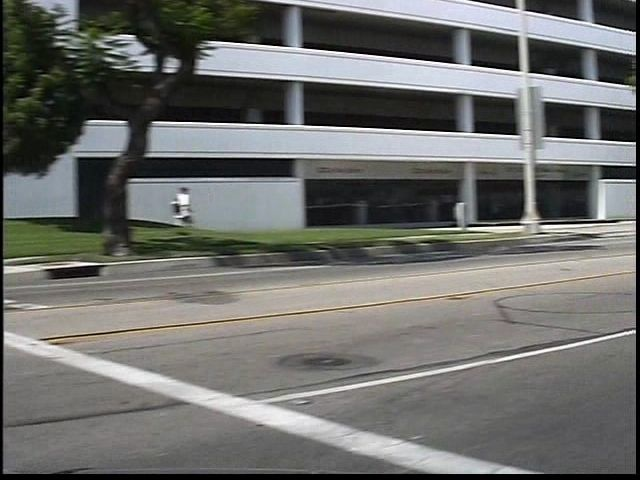person: (188, 178, 215, 245)
